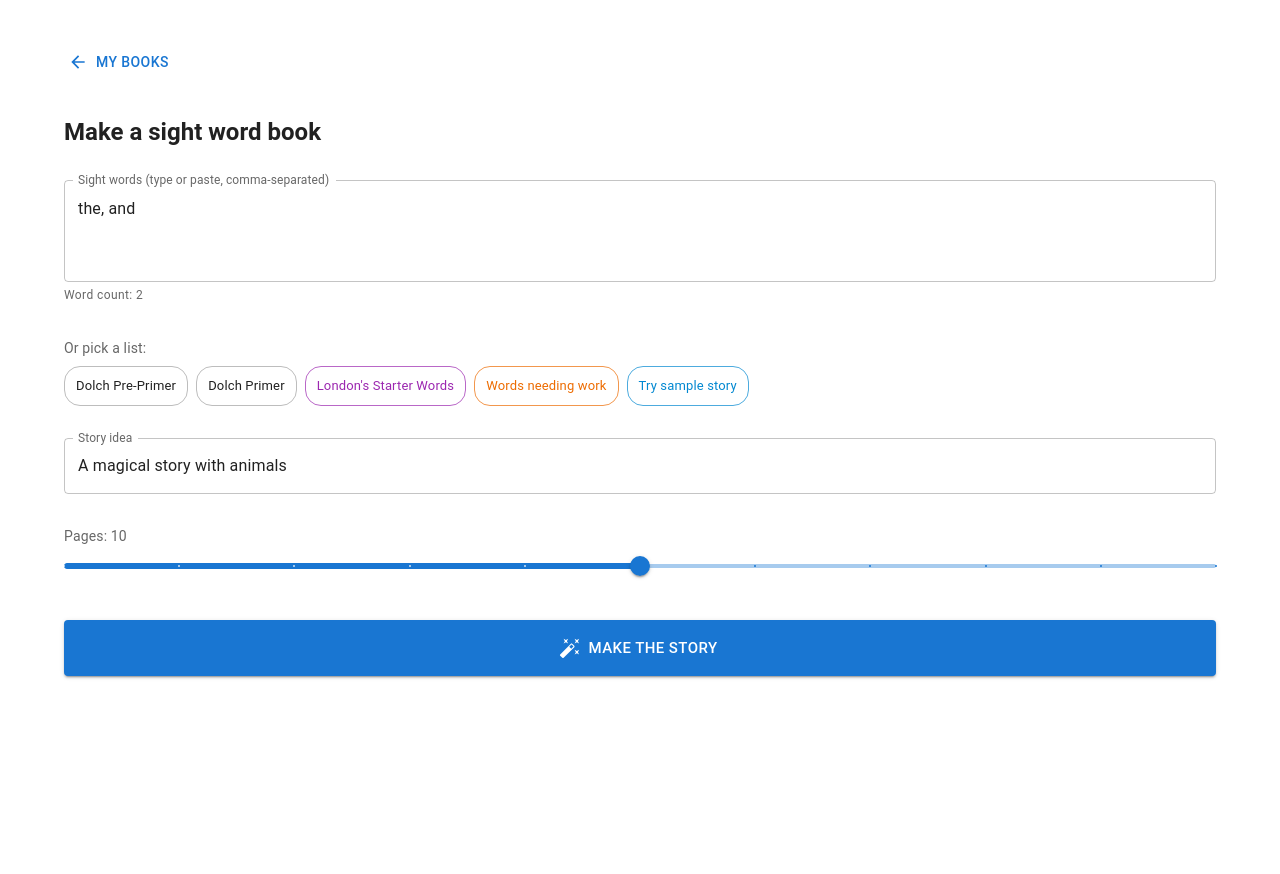
it: UX-119 — missed words are checked against the pages › does not repeat a model claim the pages disprove
The image size is (1280, 874).
Click the button "Make the story" at x=640, y=648, box [64, 620, 1216, 676]
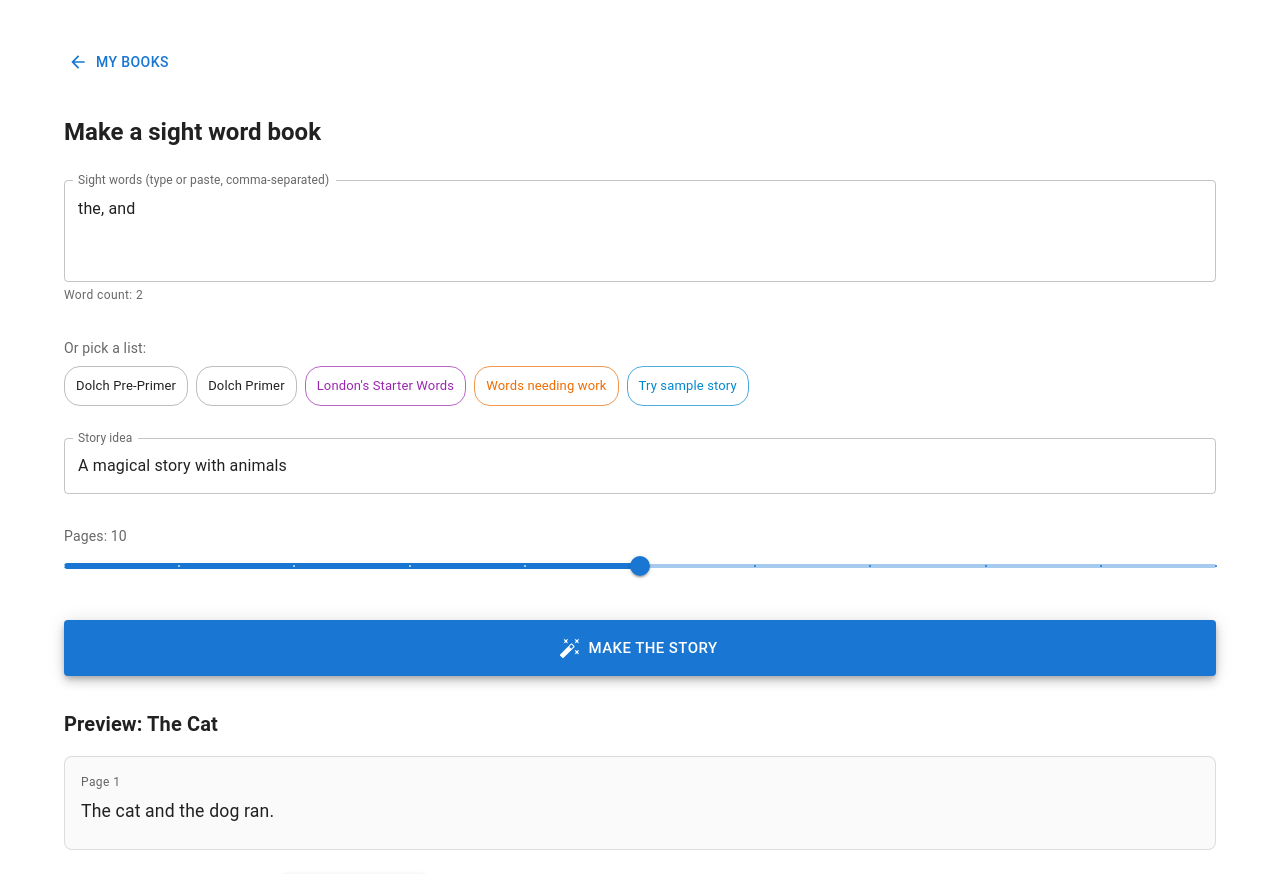
Expected: the heading "Preview: The Cat" is shown, [64, 712, 218, 736]
